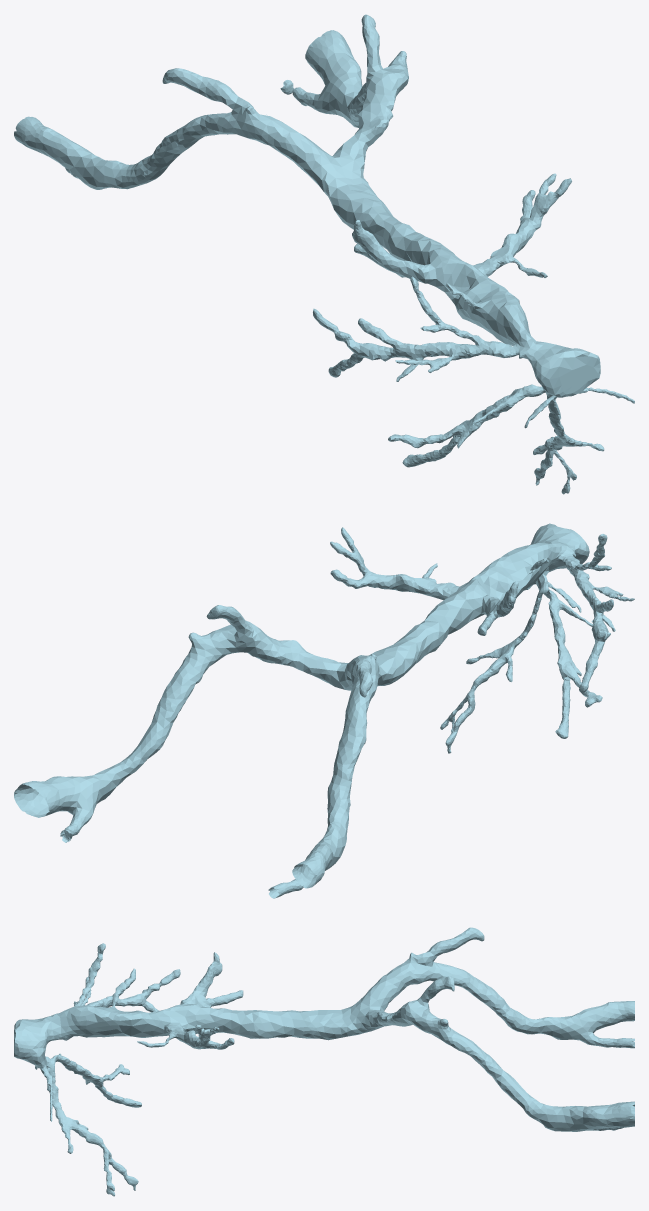
File: venacava.obj
3 views of the same model, one above another, from view 1: azimuth 30°, elevation 25°; view 2: azimuth 150°, elevation 25°; view 3: azimuth 270°, elevation 25° (orthographic). The views are drawn at different scales.
Visible parts, largest first — view 1: grp1; view 2: grp1; view 3: grp1.
Part boxes in pixels (box(x1,y1,x2,y2)): grp1: box(14, 14, 634, 494); grp1: box(14, 523, 634, 898); grp1: box(14, 927, 634, 1196).
Bounding box in the file's own units: 195 × 171 × 417.
